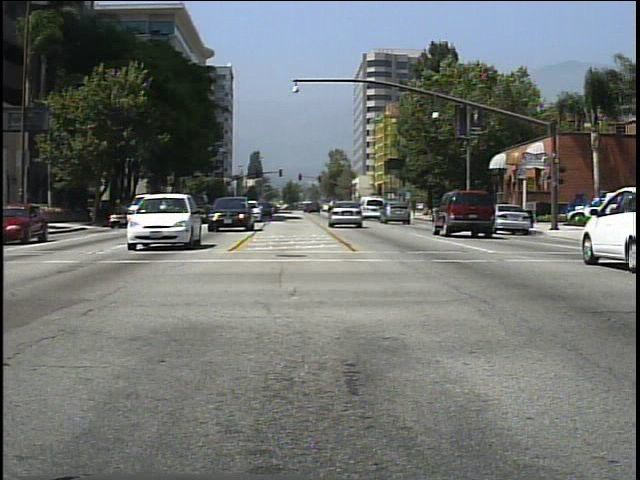person: (482, 194, 502, 229), (441, 193, 459, 227)
